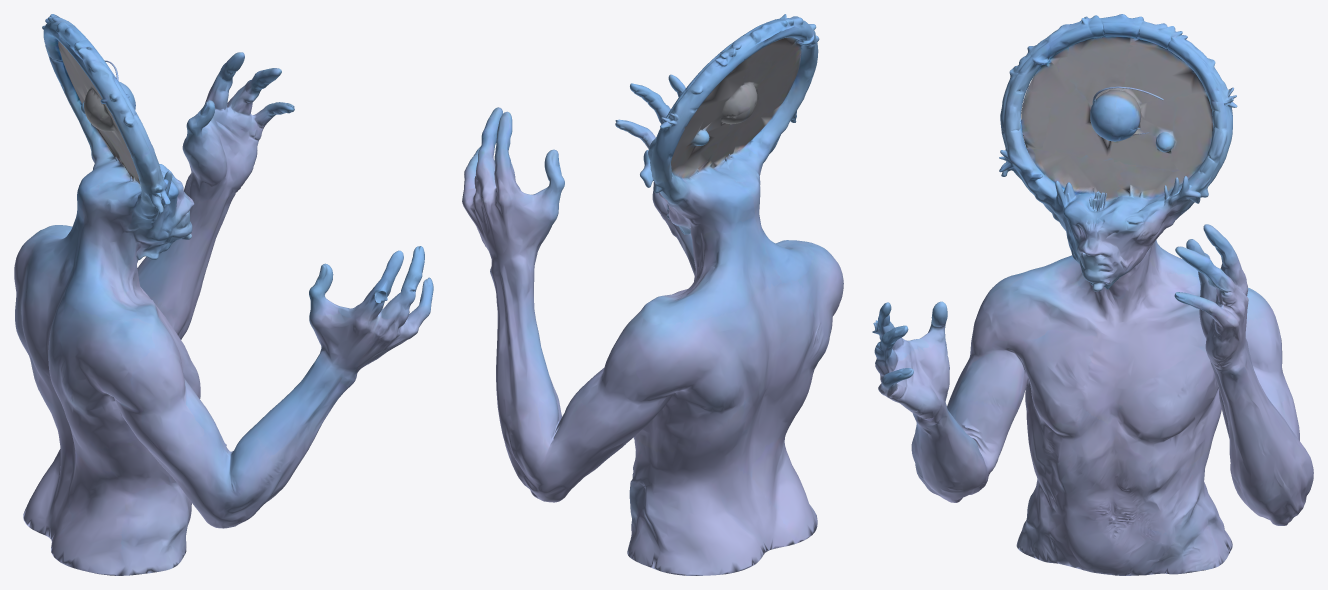
Rendered from hero-figure-low.glb.
The picture shows the model from 3 angles, left to right: view 1: azimuth 30°, elevation 25°; view 2: azimuth 150°, elevation 25°; view 3: azimuth 270°, elevation 25°; orthographic projection.
Visible parts, largest first — view 1: tripo_node_1a4d7dc9-39a5-45b5-abcc-15dd7f8c310b; view 2: tripo_node_1a4d7dc9-39a5-45b5-abcc-15dd7f8c310b; view 3: tripo_node_1a4d7dc9-39a5-45b5-abcc-15dd7f8c310b.
Boxes of the visible parts, x1=… form: tripo_node_1a4d7dc9-39a5-45b5-abcc-15dd7f8c310b: x1=14, y1=14, x2=433, y2=575; tripo_node_1a4d7dc9-39a5-45b5-abcc-15dd7f8c310b: x1=462, y1=14, x2=843, y2=575; tripo_node_1a4d7dc9-39a5-45b5-abcc-15dd7f8c310b: x1=872, y1=14, x2=1313, y2=575.
Bounding box in the file's own units: 0.5723 × 0.9803 × 0.7684.
Materials: 1 (1 with a texture image).
